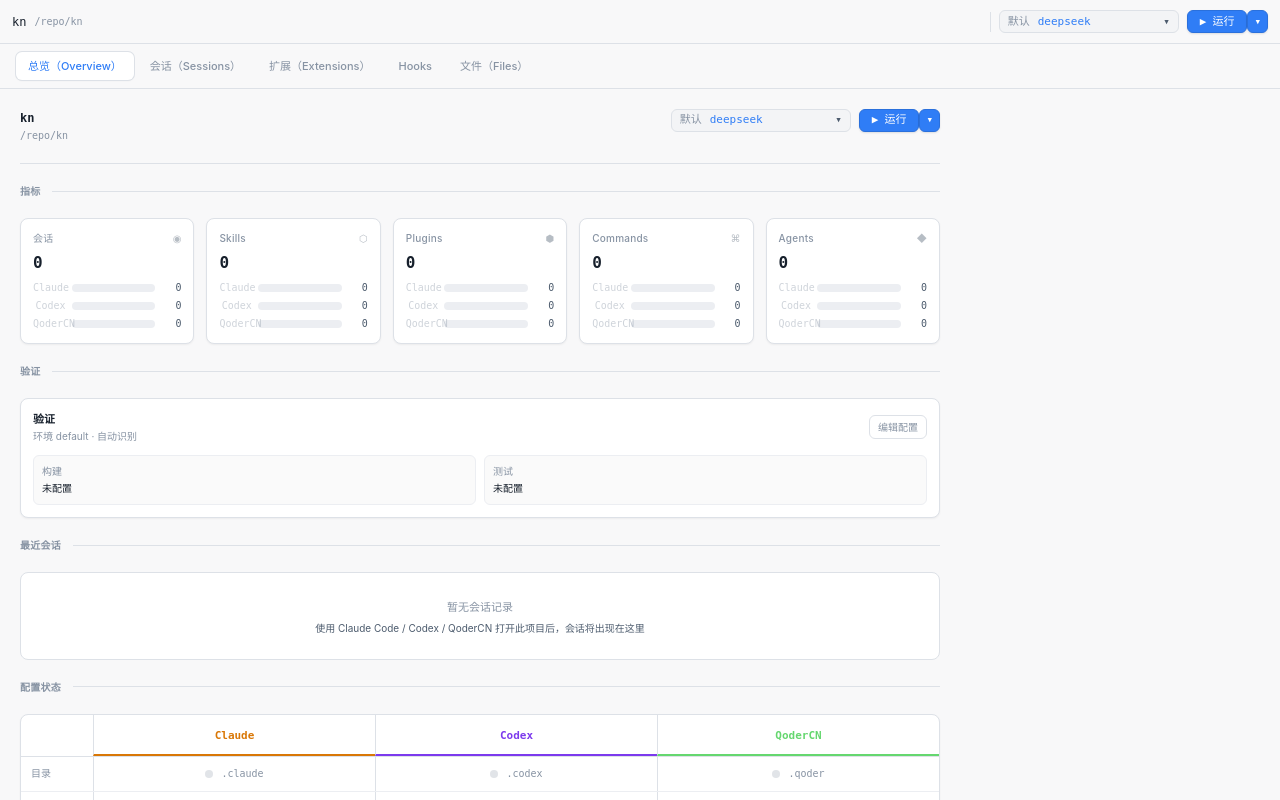
Test: ProjectWorkspace › switches to Project Hooks tab
What coordinates should you click on to do the following:
click the tab "Hooks"
I would click on:
 (415, 66)
Its box is x1=386 y1=52 x2=444 y2=80.
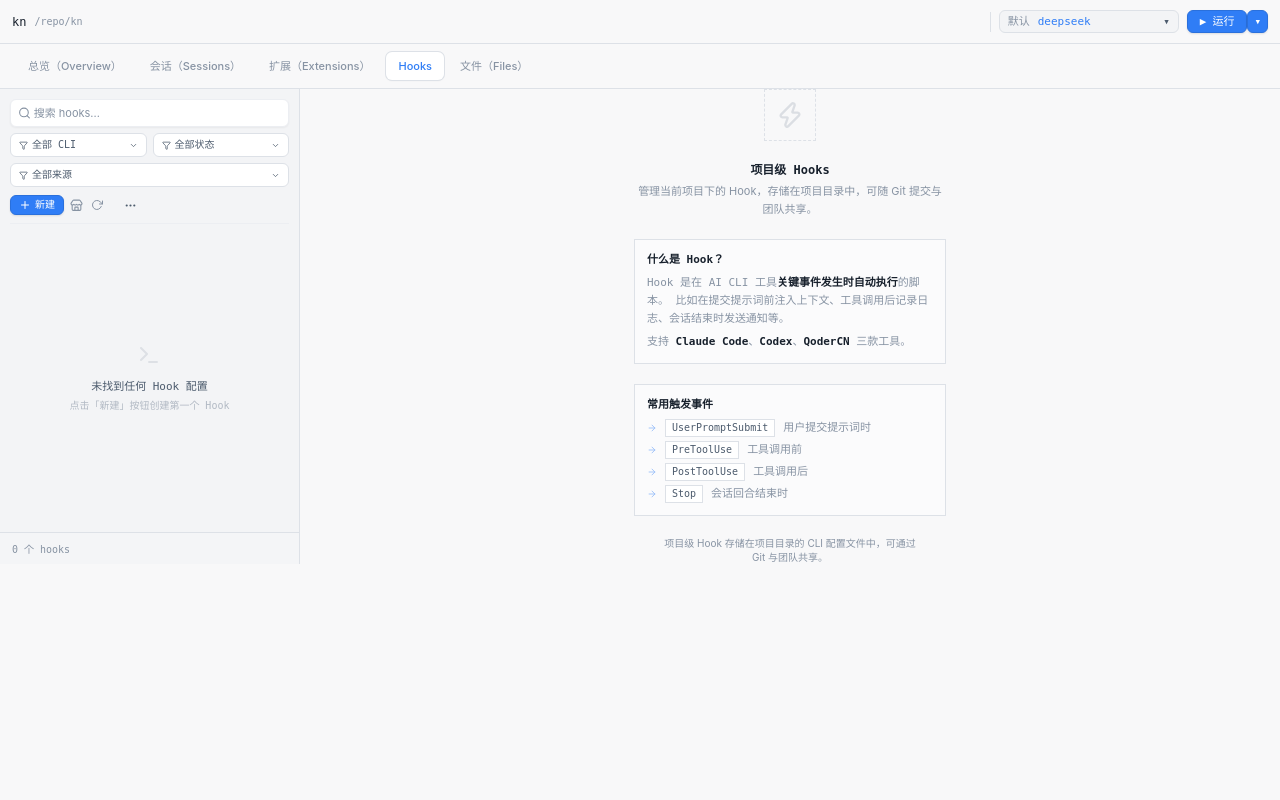
Expected: the text "项目级 Hook 存储在项目目录的 CLI 配置文件中，可通过 Git 与团队共享。" is shown, x1=660 y1=536 x2=920 y2=564
